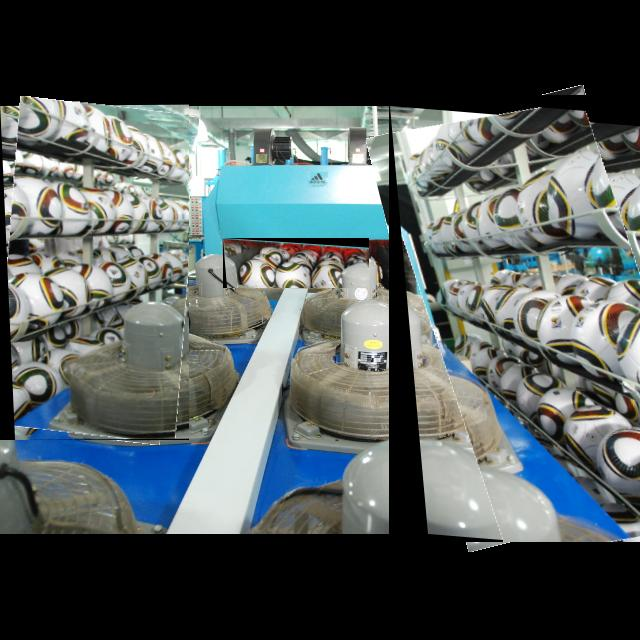Football: (389, 95, 640, 542), (0, 101, 189, 440), (223, 238, 369, 288)
